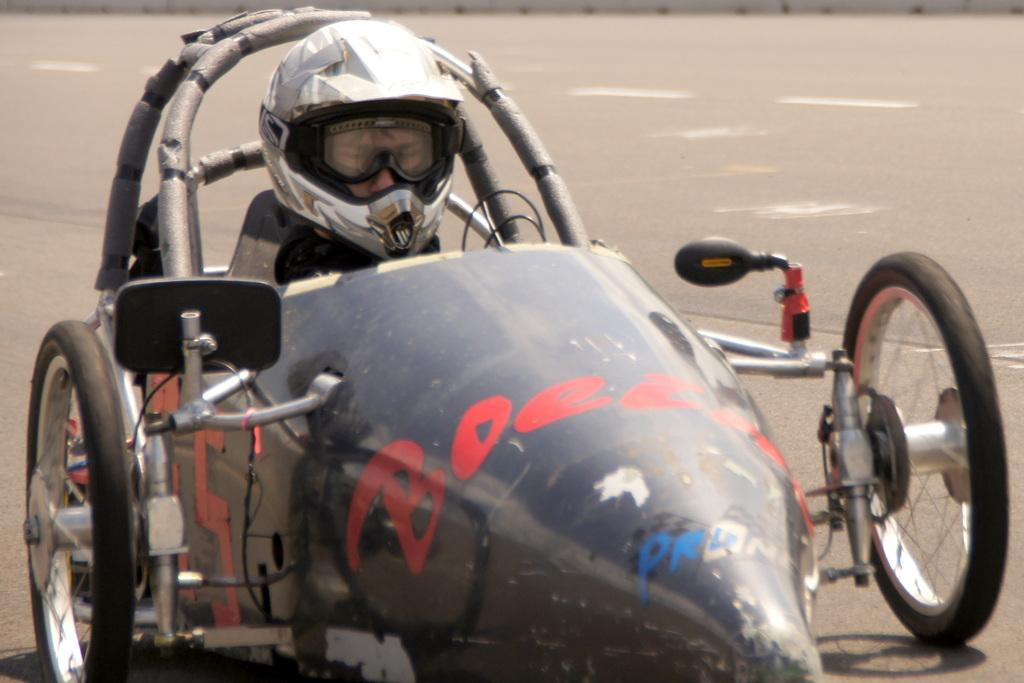helmet: (256, 17, 468, 267)
